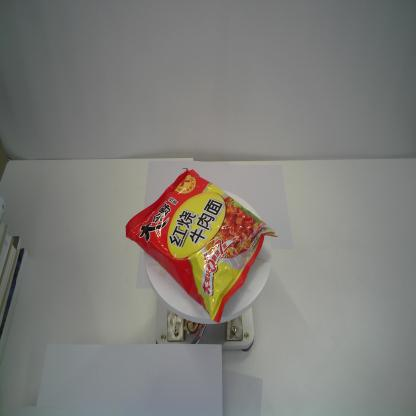Instant Noodles: (124, 166, 280, 327)
